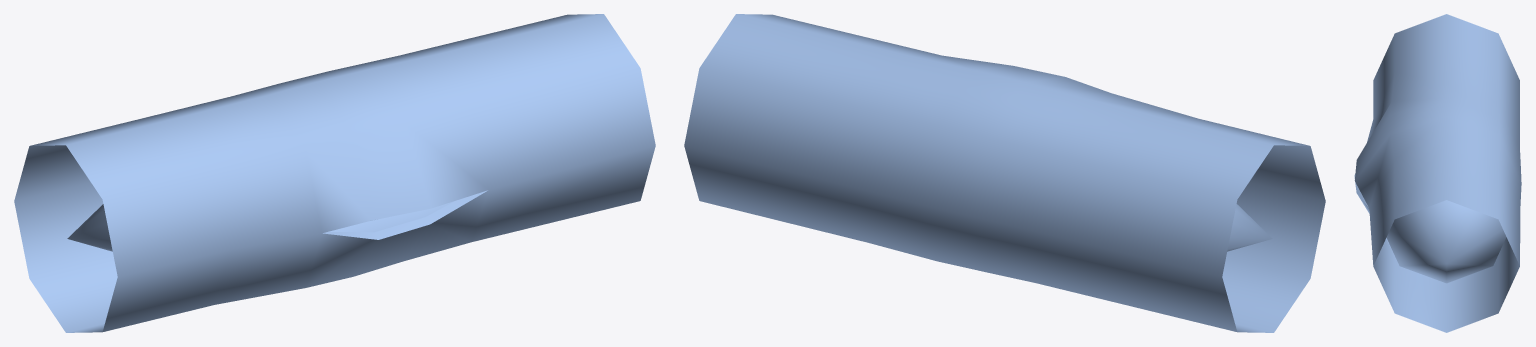
Rendered from PipeSmall_BrokenStraight_01.fbx.
3 renders of one model, left to right at view 1: azimuth 30°, elevation 25°; view 2: azimuth 150°, elevation 25°; view 3: azimuth 270°, elevation 25°, orthographic. The views are drawn at different scales.
Parts seen in each view (by area): view 1: PipeSmall_BrokenStraight_01.001; view 2: PipeSmall_BrokenStraight_01.001; view 3: PipeSmall_BrokenStraight_01.001.
Part boxes in pixels (x1,y1,x2,y2): PipeSmall_BrokenStraight_01.001: (14, 14, 655, 332); PipeSmall_BrokenStraight_01.001: (684, 14, 1325, 332); PipeSmall_BrokenStraight_01.001: (1354, 14, 1521, 332).
Size of the model in its own units: 0.3 by 0.1017 by 0.1139.
